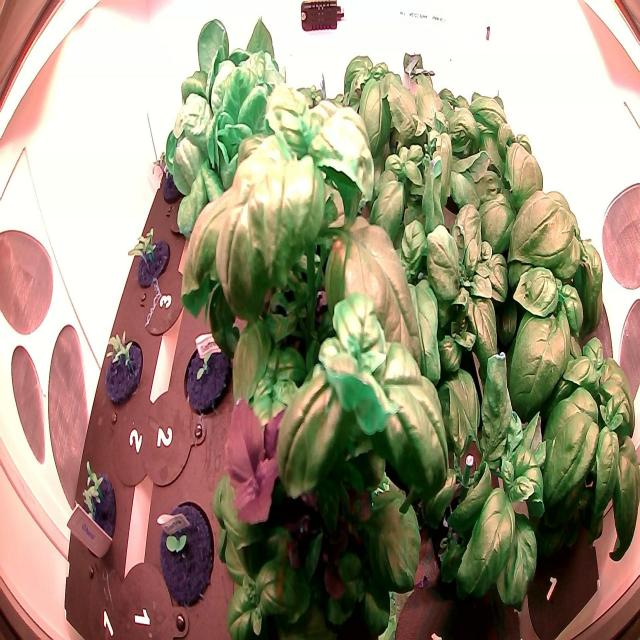Ready: (148, 7, 286, 235)
germination: (149, 491, 219, 618), (68, 448, 138, 567), (177, 323, 243, 428), (98, 317, 156, 425), (122, 213, 176, 306)
